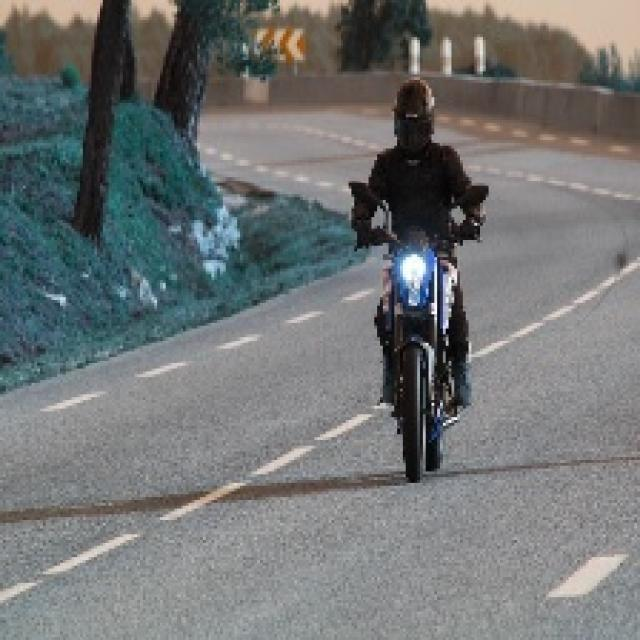bike: (370, 222, 458, 478)
